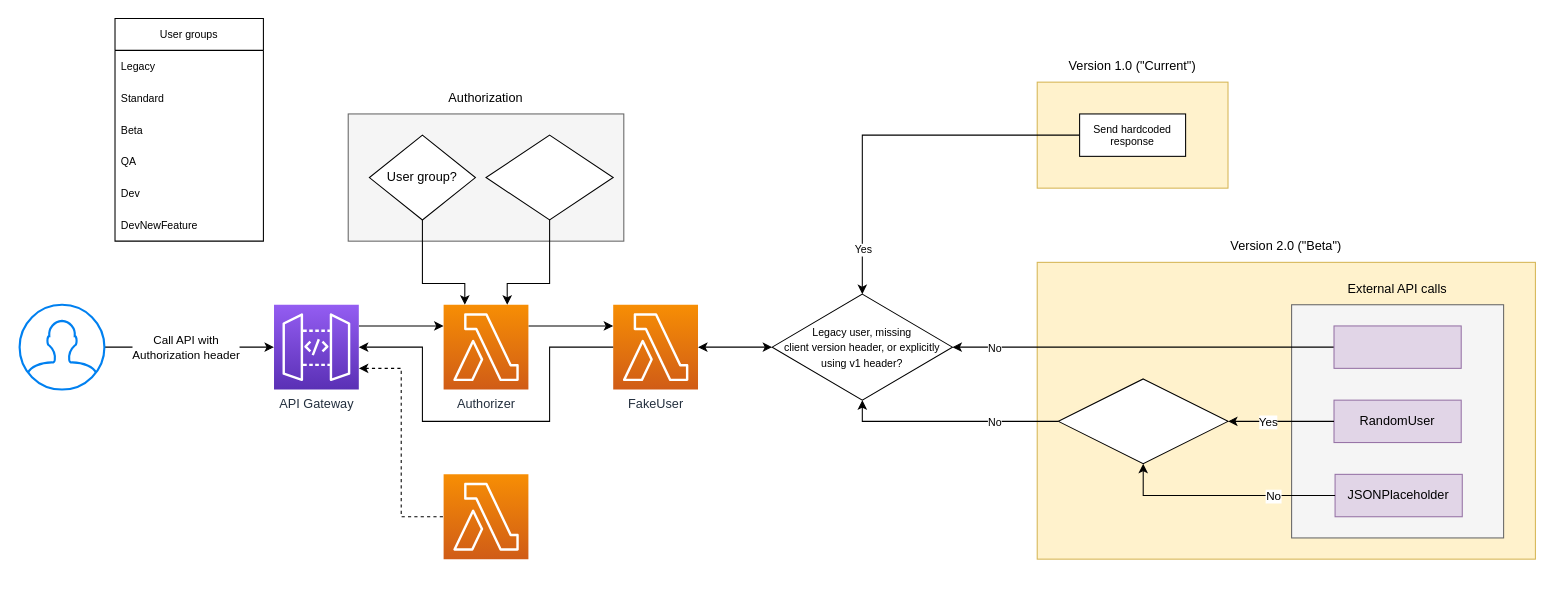
This 1554x600 diagram has some shape labels left out. The box of each missing label's shape, as (x1, y1, x2, y2) in pixels:
Beta features enabled?: (485, 134, 613, 220)
catAPI: (1333, 325, 1461, 368)
FeatureToggles: (443, 473, 528, 559)
User: (18, 303, 105, 390)
User group is "devNewFeature"?: (1057, 378, 1228, 464)
